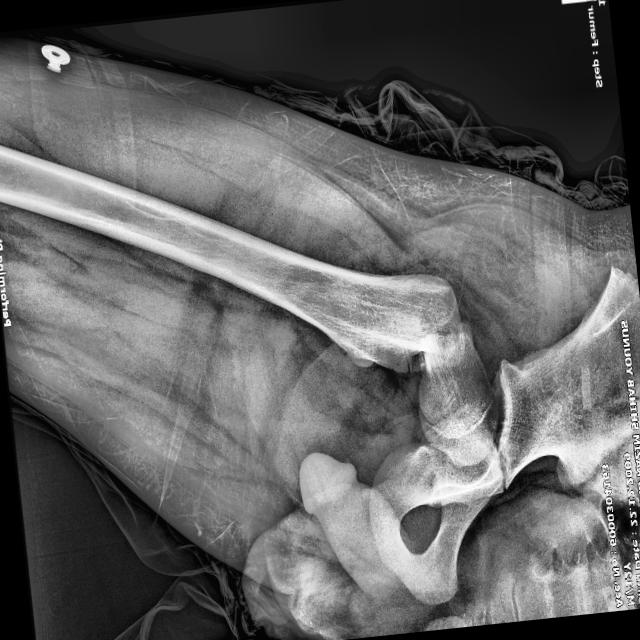Fracture: (390, 268, 486, 391)
